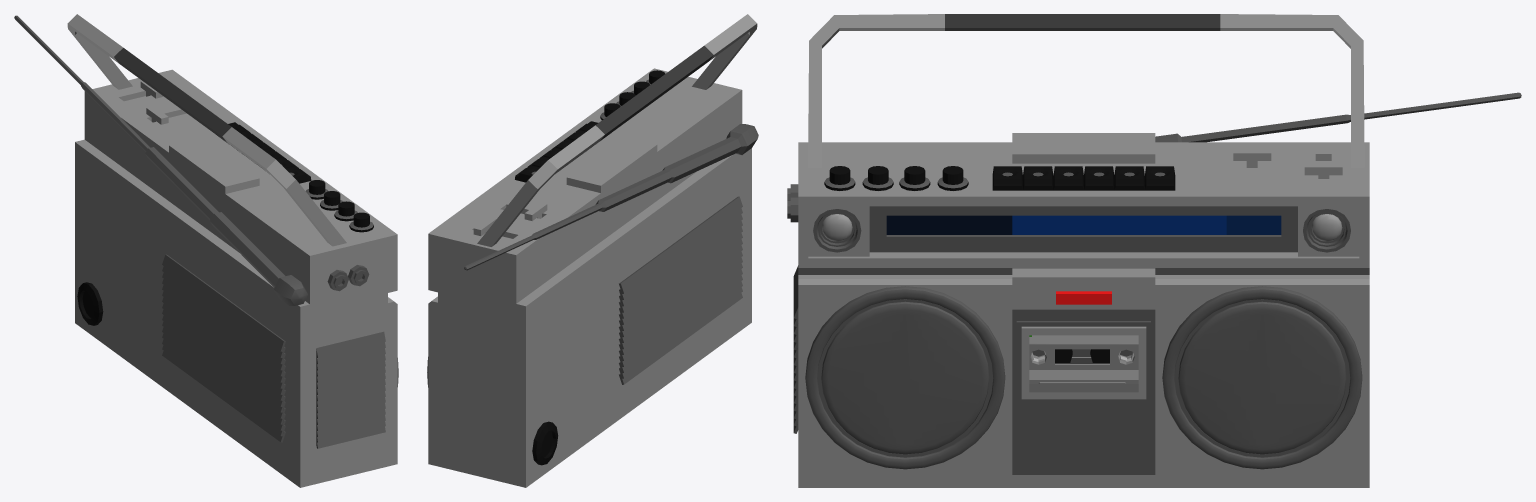
File: Radio_03.glb
3 views of the same model, side by side, from view 1: azimuth 30°, elevation 25°; view 2: azimuth 150°, elevation 25°; view 3: azimuth 270°, elevation 25° (orthographic). The views are drawn at different scales.
Parts seen in each view (by area): view 1: Mesh_Radio_03; view 2: Mesh_Radio_03; view 3: Mesh_Radio_03.
Boxes of the visible parts, x1,y1,x2,y2 form: Mesh_Radio_03: [14, 14, 398, 487]; Mesh_Radio_03: [427, 14, 758, 487]; Mesh_Radio_03: [787, 14, 1521, 487].
Bounding box in the file's own units: 0.1685 × 0.4089 × 0.6682.
Materials: 1 (1 with a texture image).
